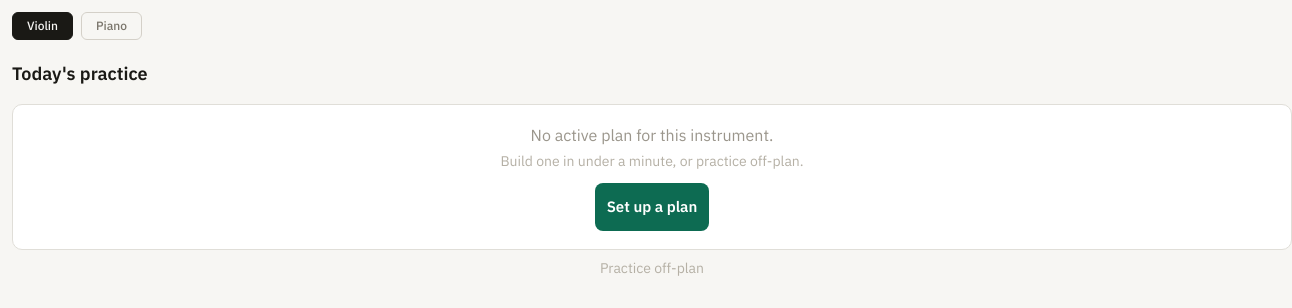
Test: Today tab — quick-start gating › opens the wizard on the instrument whose card asked for a plan
The width and height of the screenshot is (1292, 308).
Note: Violin is the selected instrument and has no plan, so its card offers one.
Click the button "Set up a plan" at (652, 207), box [595, 183, 709, 231]
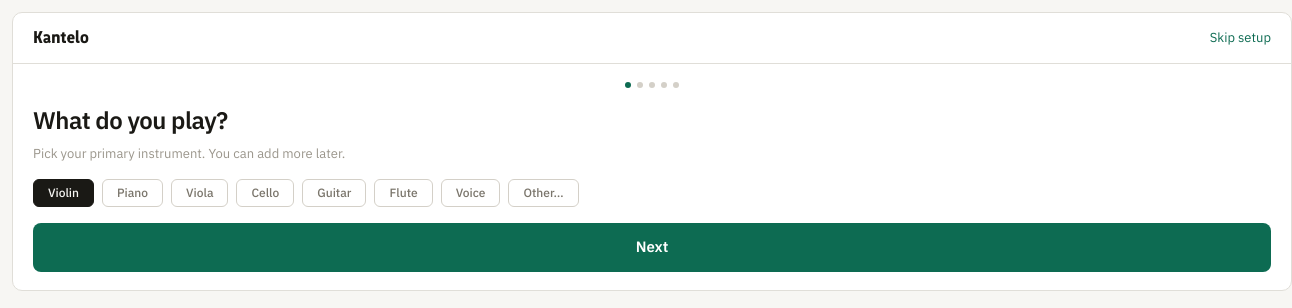
Expected: the heading "What do you play?" is shown, [33, 104, 228, 136]
